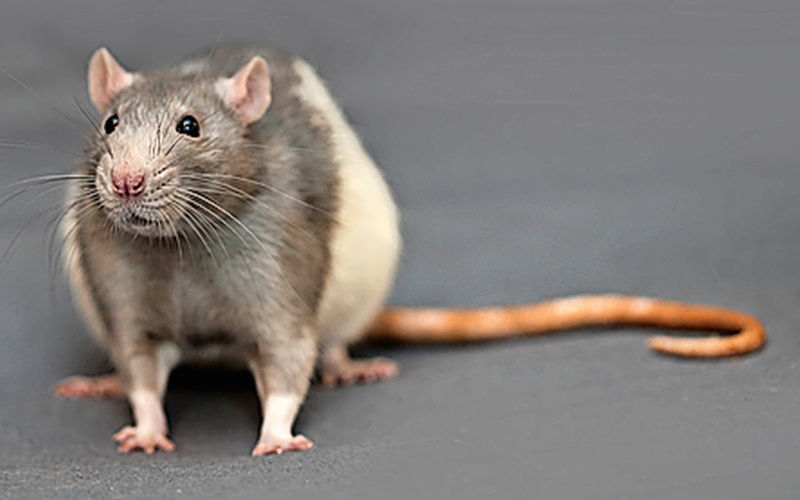rat: (28, 38, 437, 463)
